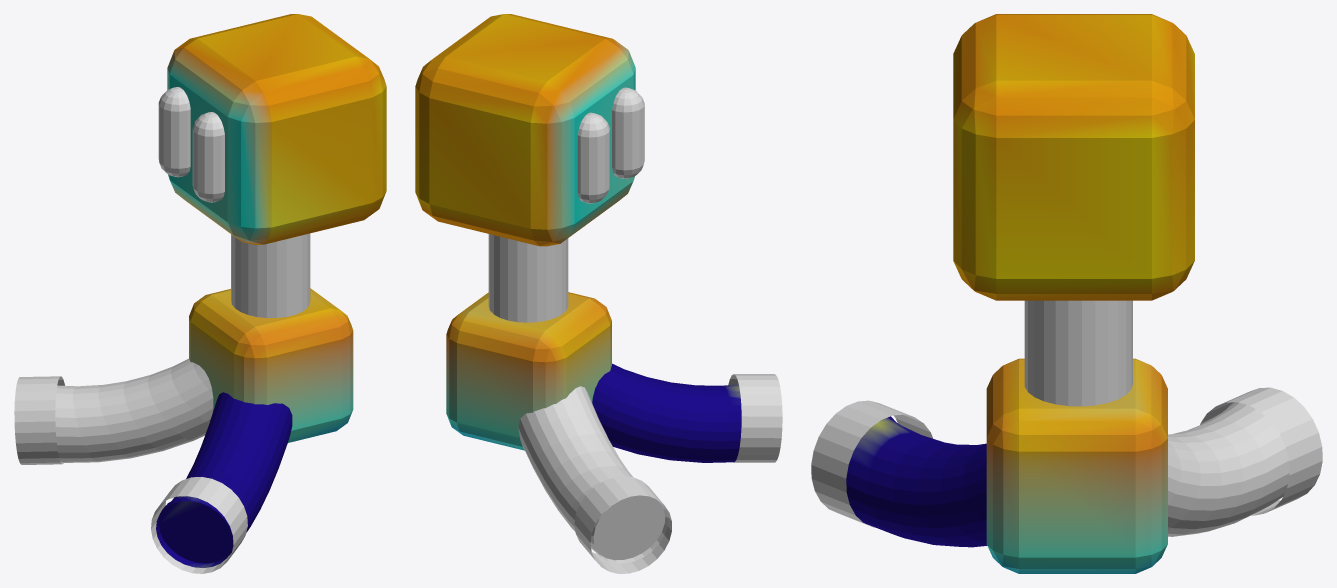
The model's file is robozin.fbx.
3 views of the same model, side by side, from view 1: azimuth 30°, elevation 25°; view 2: azimuth 150°, elevation 25°; view 3: azimuth 270°, elevation 25° (orthographic). The views are drawn at different scales.
Visible parts, largest first — view 1: Cube, Cube.001, Cylinder.001, Cylinder.002, Cylinder, Cylinder.004, Cylinder.003, Sphere.002, Sphere.003; view 2: Cube, Cube.001, Cylinder.001, Cylinder.002, Cylinder, Cylinder.003, Cylinder.004, Sphere.002, Sphere.003; view 3: Cube, Cube.001, Cylinder.002, Cylinder.001, Cylinder, Cylinder.003, Cylinder.004.
Boxes of the visible parts, left/top/right/bottom form: Cube: left=167, top=14, right=386, bottom=244; Cube.001: left=189, top=288, right=353, bottom=442; Cylinder.001: left=55, top=358, right=213, bottom=462; Cylinder.002: left=156, top=392, right=292, bottom=567; Cylinder: left=231, top=233, right=310, bottom=318; Cylinder.004: left=14, top=376, right=64, bottom=464; Cylinder.003: left=151, top=477, right=247, bottom=573; Sphere.002: left=192, top=112, right=224, bottom=202; Sphere.003: left=158, top=87, right=190, bottom=177; Cube: left=415, top=14, right=635, bottom=246; Cube.001: left=446, top=292, right=611, bottom=450; Cylinder.001: left=518, top=386, right=667, bottom=563; Cylinder.002: left=592, top=363, right=741, bottom=462; Cylinder: left=488, top=234, right=568, bottom=322; Cylinder.003: left=728, top=374, right=782, bottom=462; Cylinder.004: left=574, top=476, right=671, bottom=573; Sphere.002: left=612, top=87, right=644, bottom=178; Sphere.003: left=577, top=112, right=609, bottom=203; Cube: left=953, top=14, right=1194, bottom=300; Cube.001: left=986, top=358, right=1167, bottom=573; Cylinder.002: left=846, top=416, right=987, bottom=547; Cylinder.001: left=1168, top=402, right=1289, bottom=536; Cylinder: left=1024, top=300, right=1132, bottom=406; Cylinder.003: left=811, top=400, right=932, bottom=527; Cylinder.004: left=1200, top=387, right=1322, bottom=515.
Size of the model in its own units: 2.89 by 4.18 by 3.39.
